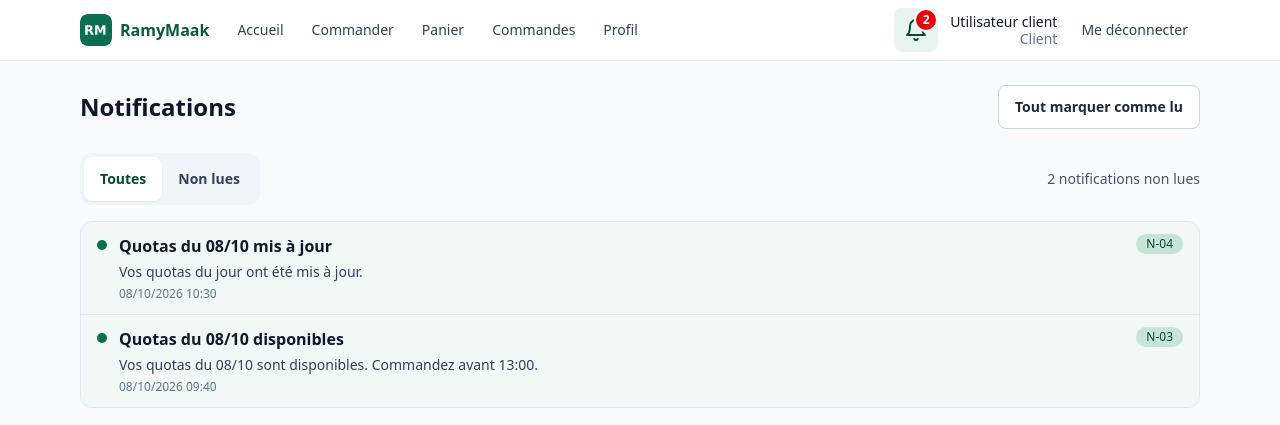
Test case: client notifications of the distribution (N-03, N-04) › lists them like the others, with their code, and opens the client space
The image size is (1280, 425).
Expected: the list named "Liste des notifications" is shown, x1=80 y1=221 x2=1200 y2=408
Expected: the text "N-04" is shown, x1=1136 y1=234 x2=1183 y2=254
Click the link "Quotas du 08/10 disponibles".
click(147, 338)  # box x1=81 y1=315 x2=1199 y2=407
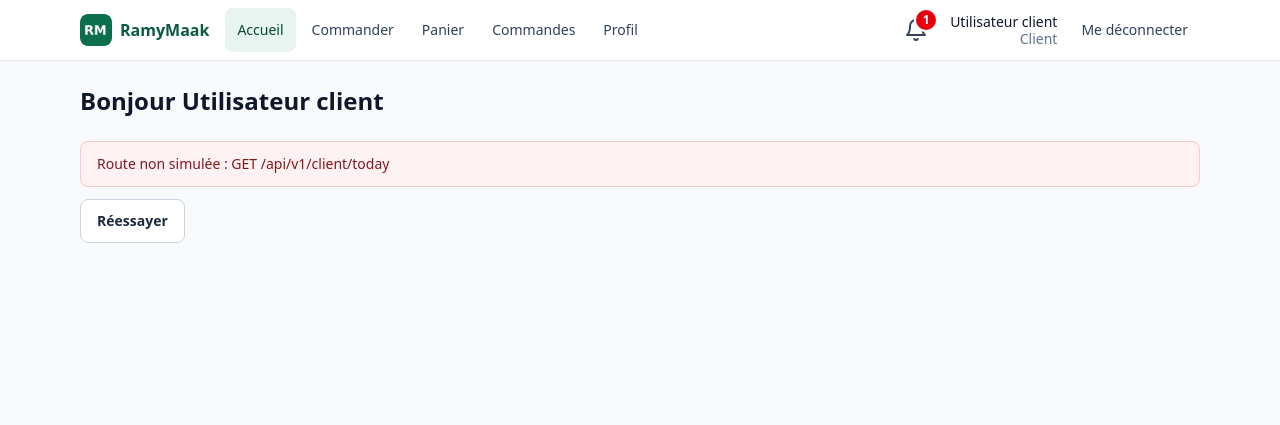
Expected: the link named "Notifications (1 non lue)" is shown, x1=904 y1=10 x2=936 y2=42
